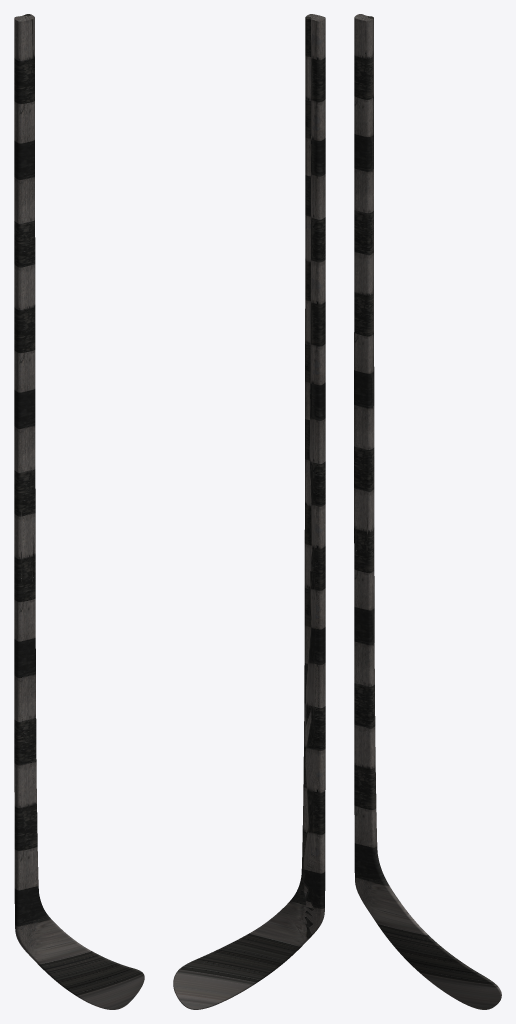
The model's file is P29-ST-LIE6_5.glb.
3 renders of one model, left to right at view 1: azimuth 30°, elevation 25°; view 2: azimuth 150°, elevation 25°; view 3: azimuth 330°, elevation 25°, orthographic. The views are drawn at different scales.
Parts seen in each view (by area): view 1: geometry_0; view 2: geometry_0; view 3: geometry_0.
Boxes of the visible parts, left/top/right/bottom form: geometry_0: left=14, top=14, right=144, bottom=1009; geometry_0: left=173, top=14, right=325, bottom=1009; geometry_0: left=354, top=14, right=501, bottom=1009.
Bounding box in the file's own units: 237 × 1650 × 55.99.
Materials: 1 (1 with a texture image).
